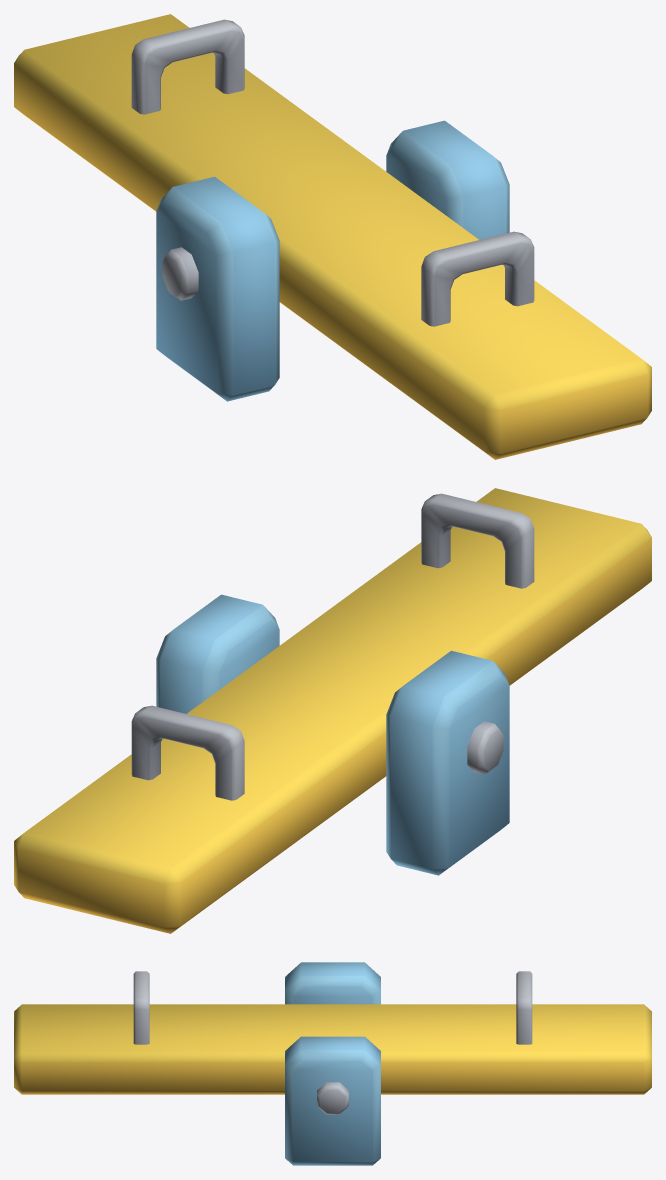
The model's file is seesaw_small.gltf.
The picture shows the model from 3 angles, top to bottom: view 1: azimuth 30°, elevation 25°; view 2: azimuth 150°, elevation 25°; view 3: azimuth 270°, elevation 25°; orthographic projection. The views are drawn at different scales.
Parts seen in each view (by area): view 1: seesaw_small_seat, seesaw_small; view 2: seesaw_small_seat, seesaw_small; view 3: seesaw_small_seat, seesaw_small.
Part boxes in pixels (x1,y1,x2,y2): seesaw_small_seat: (14, 14, 651, 459); seesaw_small: (156, 120, 509, 401); seesaw_small_seat: (14, 488, 651, 933); seesaw_small: (156, 594, 509, 875); seesaw_small_seat: (14, 971, 651, 1094); seesaw_small: (285, 962, 380, 1165).
Size of the model in its own units: 1.54 by 0.95 by 4.
1 material, 1 textured.
